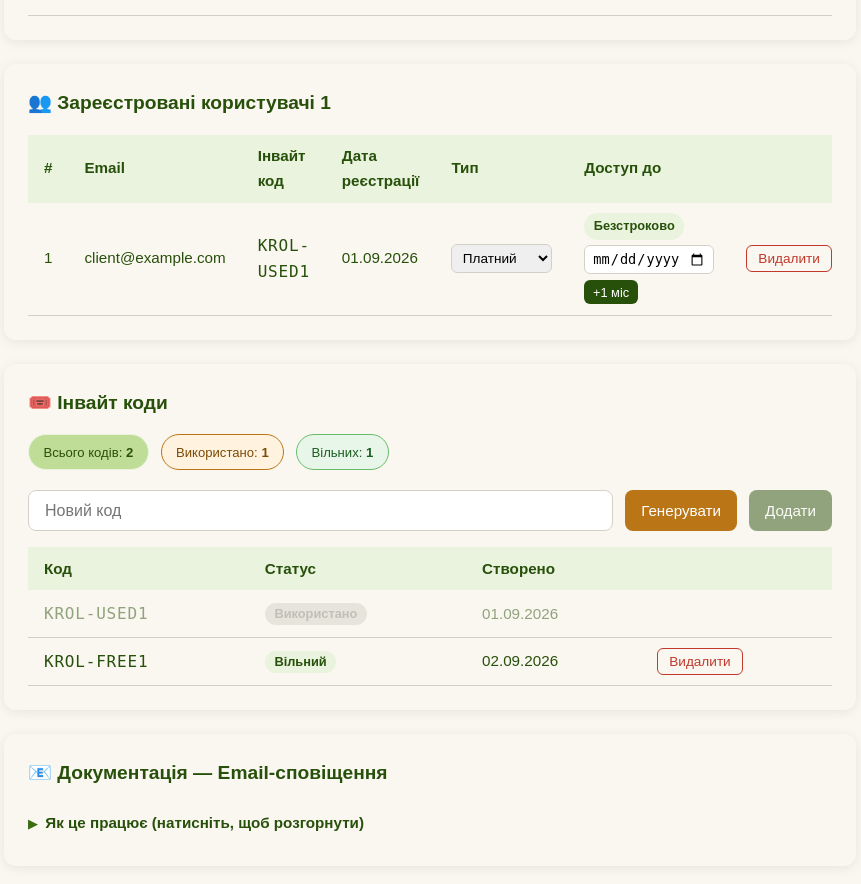
Test case: Admin: коди й відновлення › помилка видалення коду показує повідомлення
(page scrolled)
Click the button "Видалити" in the row of "KROL-FREE1" at coordinates (700, 662), box x1=657 y1=648 x2=743 y2=675
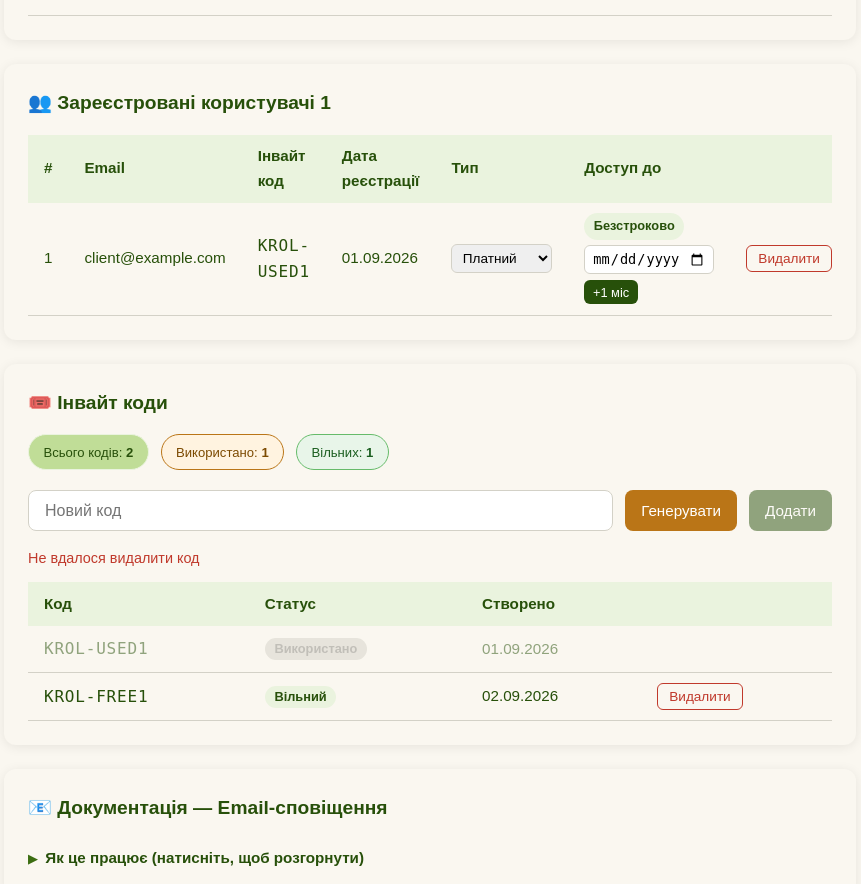
Expected: the text "Не вдалося видалити код" is shown, x1=28 y1=550 x2=200 y2=566
